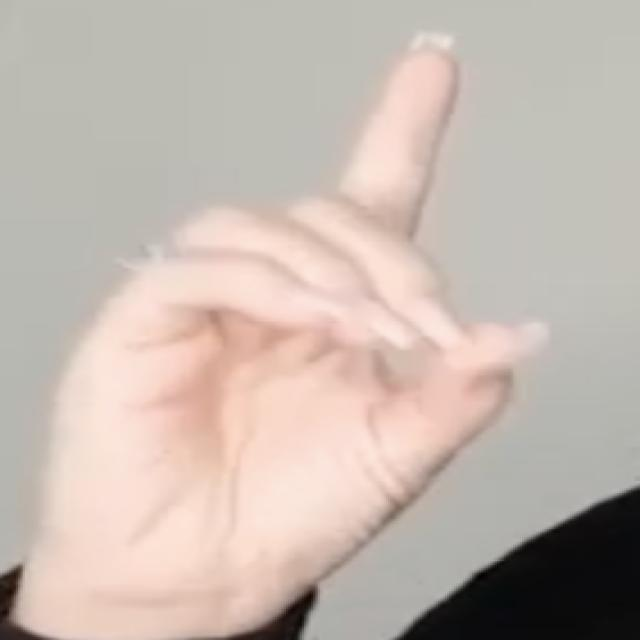D: (14, 44, 558, 600)
